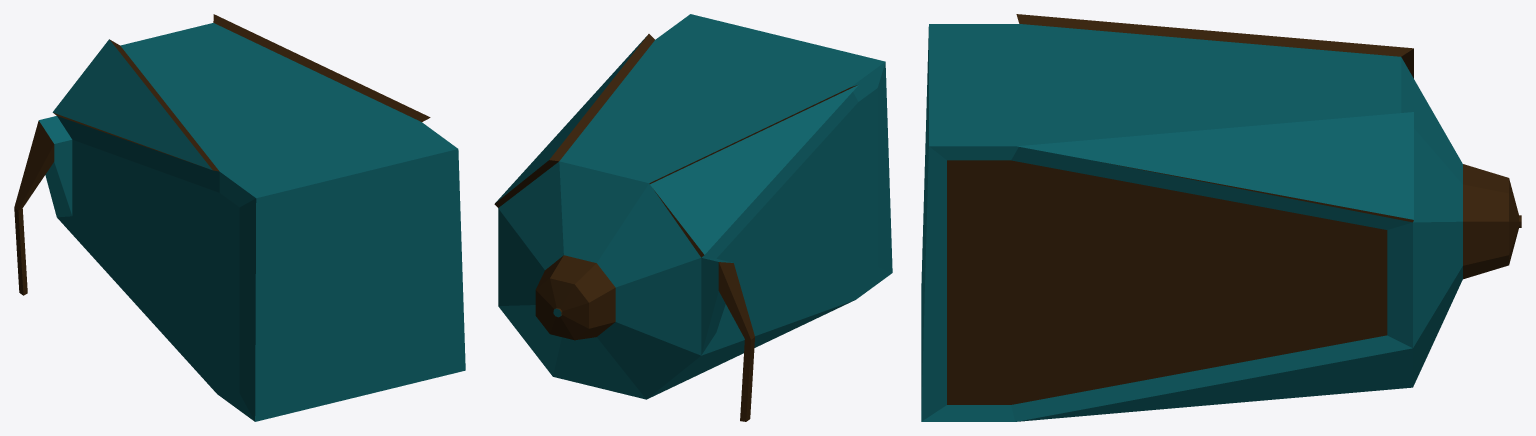
The model's file is generator.fbx.
3 views of the same model, side by side, from view 1: azimuth 30°, elevation 25°; view 2: azimuth 150°, elevation 25°; view 3: azimuth 270°, elevation 25° (orthographic). The views are drawn at different scales.
Parts seen in each view (by area): view 1: Generator; view 2: Generator; view 3: Generator.
Part boxes in pixels (bbox=[...]): Generator: bbox=[14, 14, 465, 421]; Generator: bbox=[494, 14, 892, 421]; Generator: bbox=[921, 14, 1521, 421].
Size of the model in its own units: 248 by 206 by 398.
